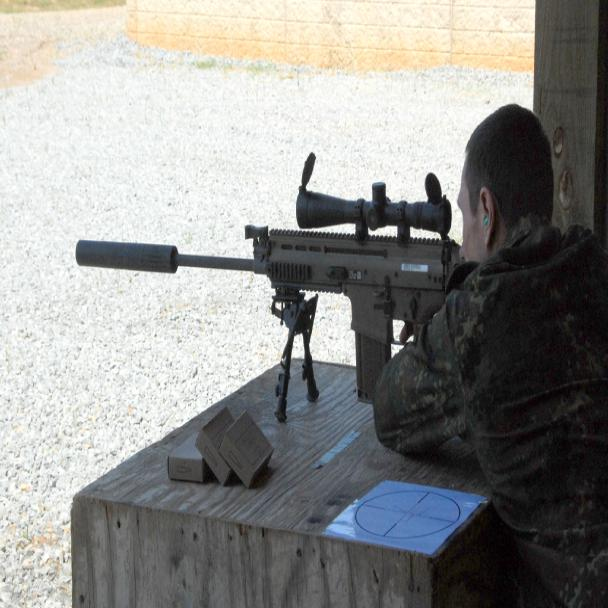Gun: (54, 136, 468, 403)
